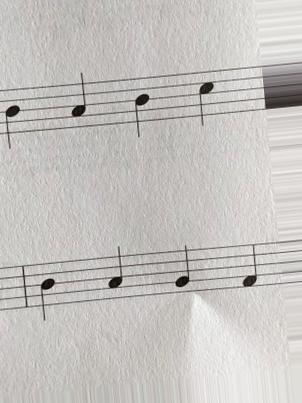A: (65, 70, 93, 140), (102, 239, 130, 305)
B: (34, 257, 65, 333), (126, 74, 154, 150), (1, 83, 25, 155)
F: (239, 239, 263, 295)
G: (170, 239, 197, 302)
HC: (195, 67, 218, 134)
